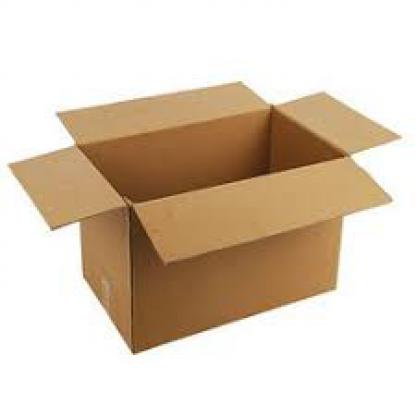CARDBOARD: (6, 76, 400, 353)
